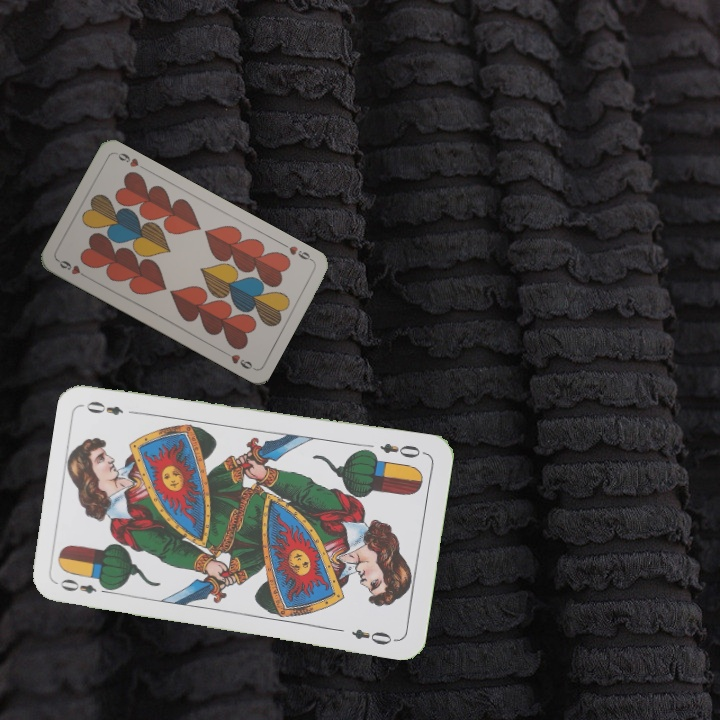EO: (56, 575, 114, 597), (376, 438, 428, 461)
H9: (278, 239, 316, 264), (55, 256, 91, 281)
